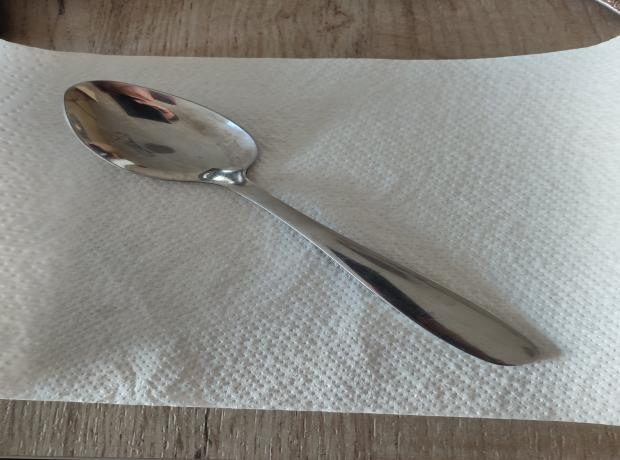metal: (62, 78, 542, 366)
